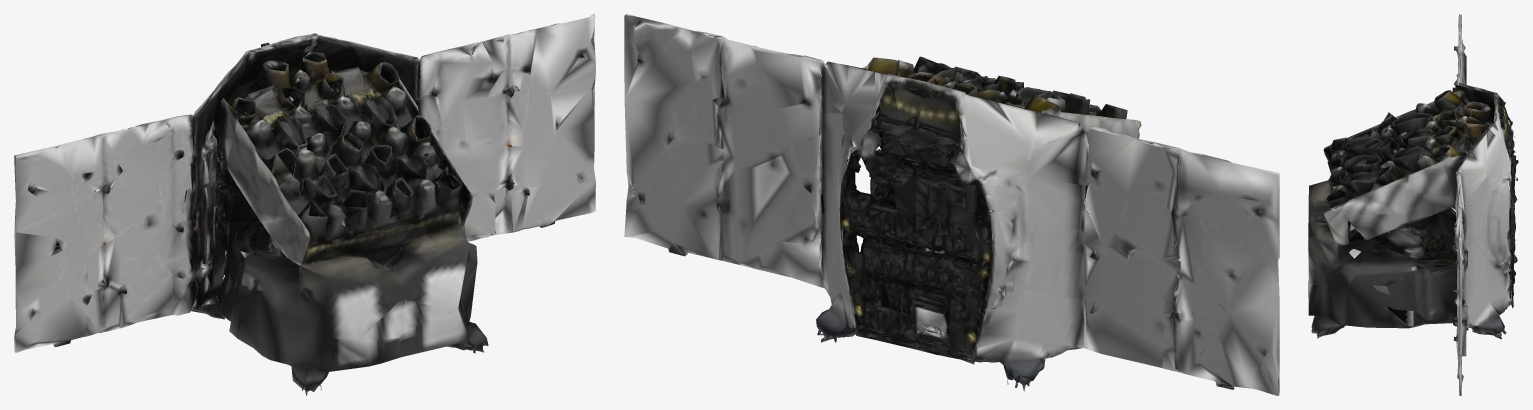
The model's file is plato-low.glb.
3 renders of one model, left to right at view 1: azimuth 30°, elevation 25°; view 2: azimuth 150°, elevation 25°; view 3: azimuth 270°, elevation 25°, orthographic. The views are drawn at different scales.
Bounding box in the file's own units: 1.9 × 0.7852 × 0.749.
Materials: 1 (1 with a texture image).
